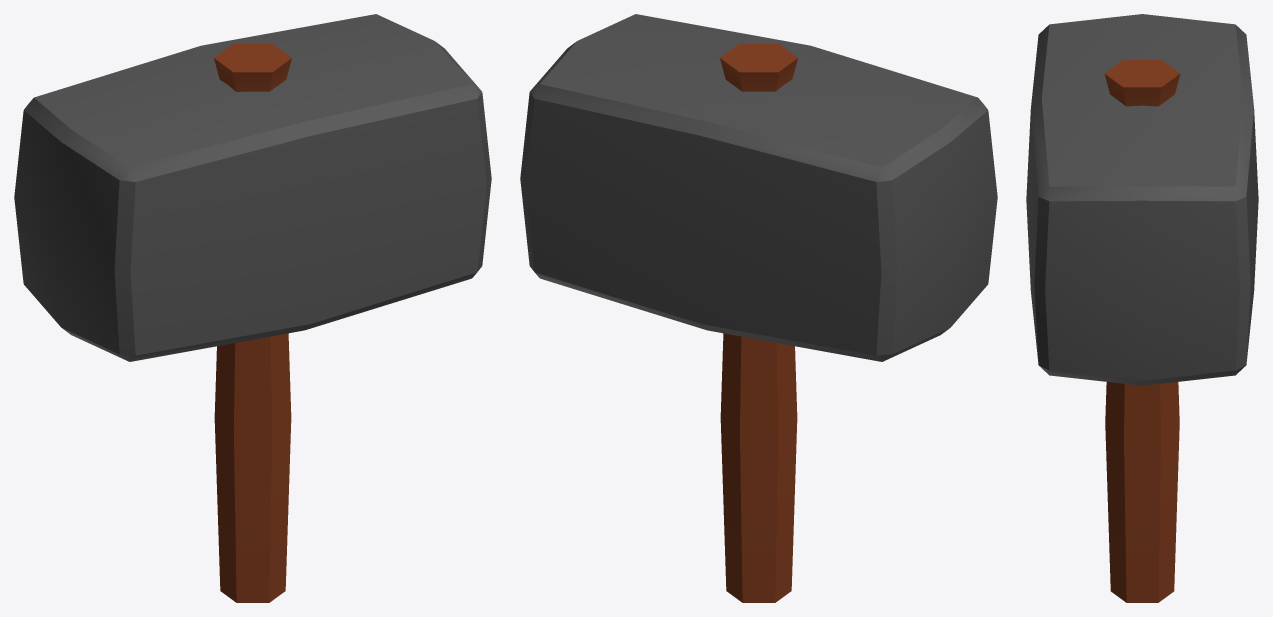
Rendered from Hammer.fbx.
3 renders of one model, left to right at view 1: azimuth 30°, elevation 25°; view 2: azimuth 150°, elevation 25°; view 3: azimuth 270°, elevation 25°, orthographic. The views are drawn at different scales.
Visible parts, largest first — view 1: Cube; view 2: Cube; view 3: Cube.
Part boxes in pixels (bbox=[...]): Cube: bbox=[14, 14, 491, 602]; Cube: bbox=[520, 14, 997, 602]; Cube: bbox=[1026, 14, 1258, 602].
Size of the model in its own units: 434 by 554 by 225.
